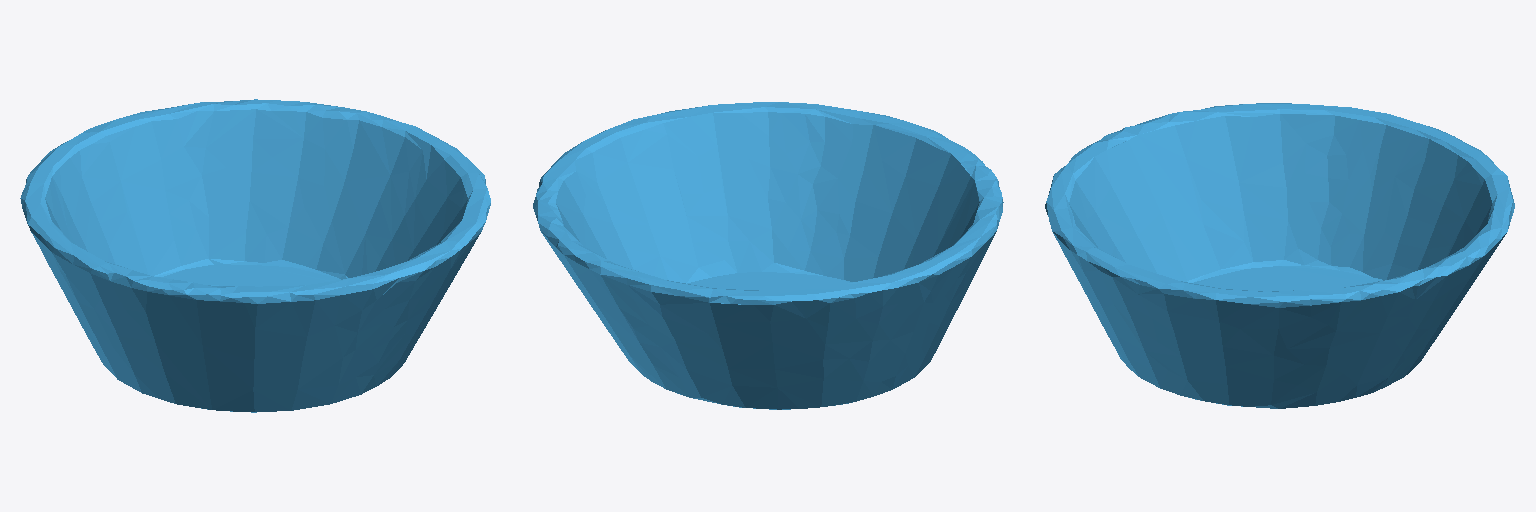
robot.urdf — Bowl_8eab5598b81afd7bab5b523beb03efcd_S:
<?xml version="1.0"?>
<robot name="Bowl_8eab5598b81afd7bab5b523beb03efcd_S">
      <link name="base"/>
      <link name="link_0">
      <visual>
        <origin xyz="0.0 0.0 0.0"/>
        <geometry>
          <mesh filename="Bowl_8e840ba109f252534c6955b188e290e0_S.obj" scale="1.0 1.0 1.0"/>
        </geometry>
      </visual>
      <collision>
        <origin xyz="0.0 0.0 0.0"/>
        <geometry>
          <mesh filename="collision.obj" scale="1.0 1.0 1.0"/>
        </geometry>
      </collision>
      </link>
      <joint name="joint_0" type="fixed">
		<origin rpy="0 0 0" xyz="0 0 0"/>
		<child link="link_0"/>
		<parent link="base"/>
	  </joint>
</robot>

--- Render facts (derived) ---
Views: 3 orthographic renders of the robot side by side, from view 1: azimuth 30°, elevation 25°; view 2: azimuth 150°, elevation 25°; view 3: azimuth 270°, elevation 25°.
Model Bowl_8eab5598b81afd7bab5b523beb03efcd_S with 2 links and 1 joints (1 fixed), rooted at base, posed every joint at zero.
Visible links, largest first — view 1: link_0; view 2: link_0; view 3: link_0.
Link boxes in pixels (x1=…): link_0: x1=20, y1=99, x2=490, y2=412; link_0: x1=533, y1=102, x2=1003, y2=409; link_0: x1=1045, y1=103, x2=1514, y2=408.
Bounding box of the posed robot: 0.1574 × 0.1576 × 0.055 m (x, y, z).
Meshes: 1 distinct files referenced, 1 mesh visuals loaded (1 OBJ).